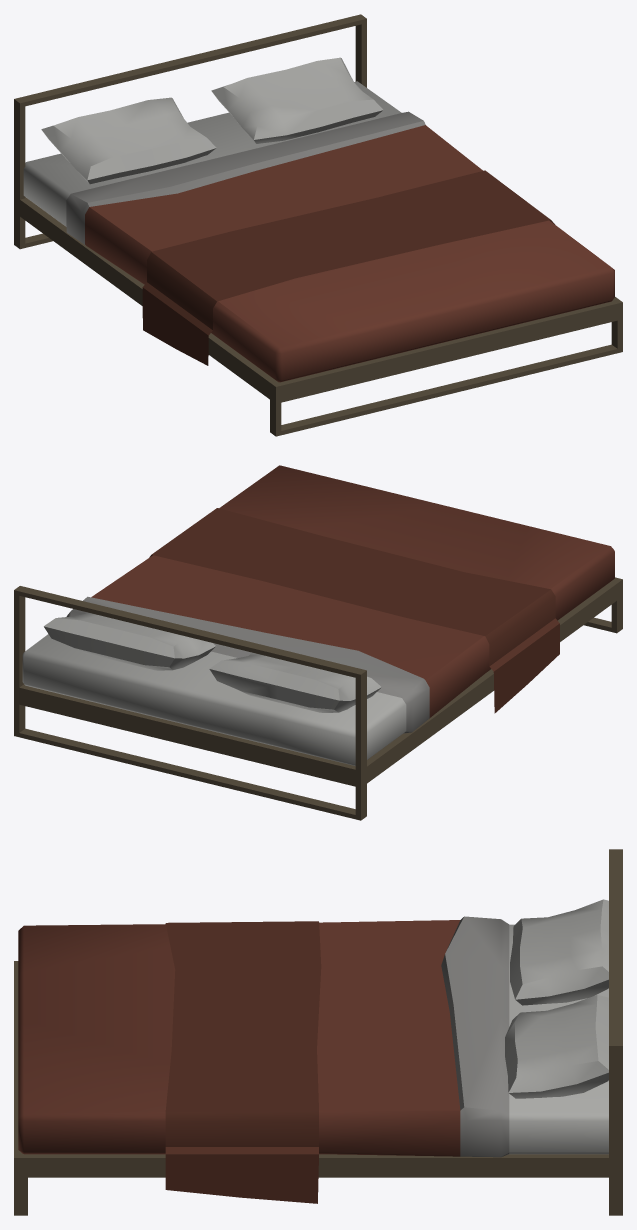
File: Bed King.glb
3 renders of one model, top to bottom at view 1: azimuth 30°, elevation 25°; view 2: azimuth 150°, elevation 25°; view 3: azimuth 270°, elevation 25°, orthographic. The views are drawn at different scales.
Parts seen in each view (by area): view 1: Bed King; view 2: Bed King; view 3: Bed King.
Part boxes in pixels (left/top/right/bottom): Bed King: left=14, top=14, right=622, bottom=436; Bed King: left=14, top=465, right=622, bottom=820; Bed King: left=14, top=849, right=622, bottom=1215.
Bounding box in the file's own units: 3.06 × 1.21 × 3.95.
